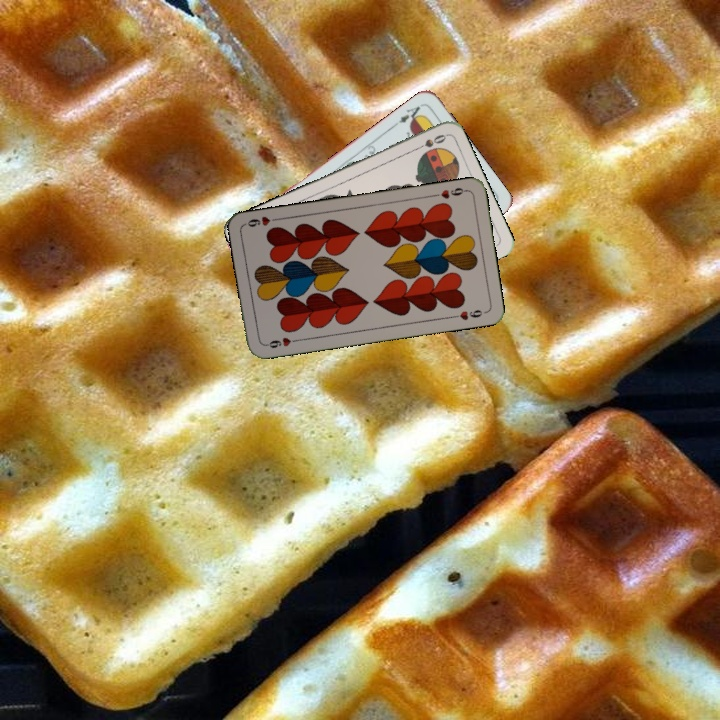EA: (391, 100, 425, 129)
H9: (429, 183, 469, 201), (261, 333, 301, 351)
SO: (410, 130, 449, 153)
